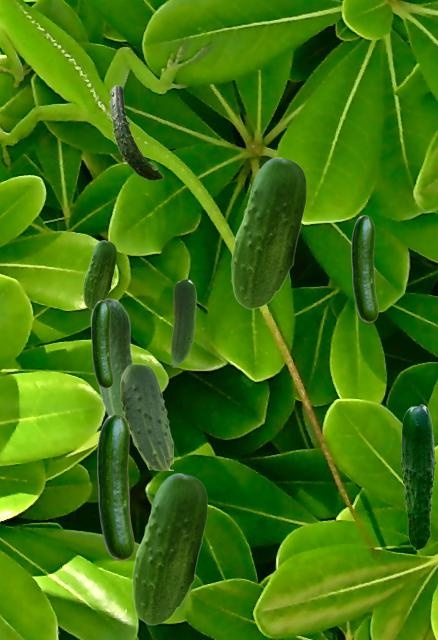cucumber: (132, 473, 206, 624), (231, 157, 305, 308), (120, 363, 172, 469), (97, 414, 133, 559), (400, 404, 435, 549), (90, 298, 133, 415), (109, 85, 162, 179), (351, 215, 377, 321), (83, 240, 115, 308), (171, 279, 195, 366), (91, 300, 112, 387)
